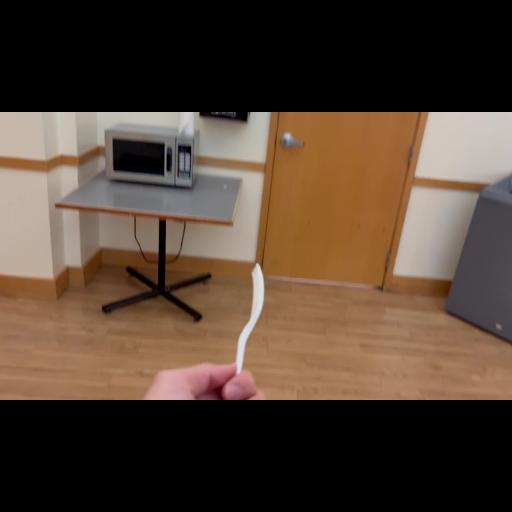utensil: (232, 257, 274, 379)
